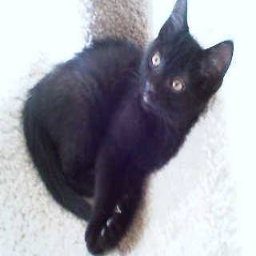cat: (16, 0, 234, 254)
